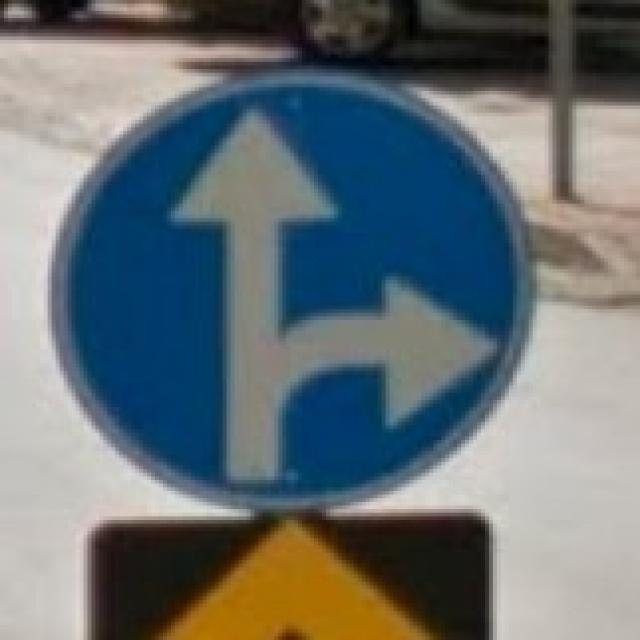Straight or Right: (61, 67, 518, 499)
